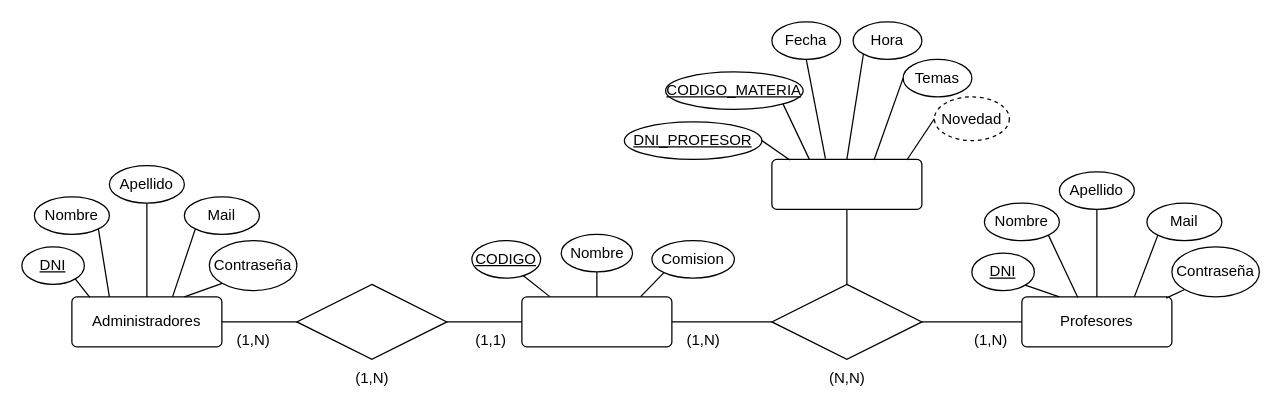
This 1281x419 diagram has some shape labels left out. The shapes that lost their labels are listed below. From the top down, each one's centre as x and y in pixels, then its label:
At (846,183): "Clase".
At (596,321): "Materia".
